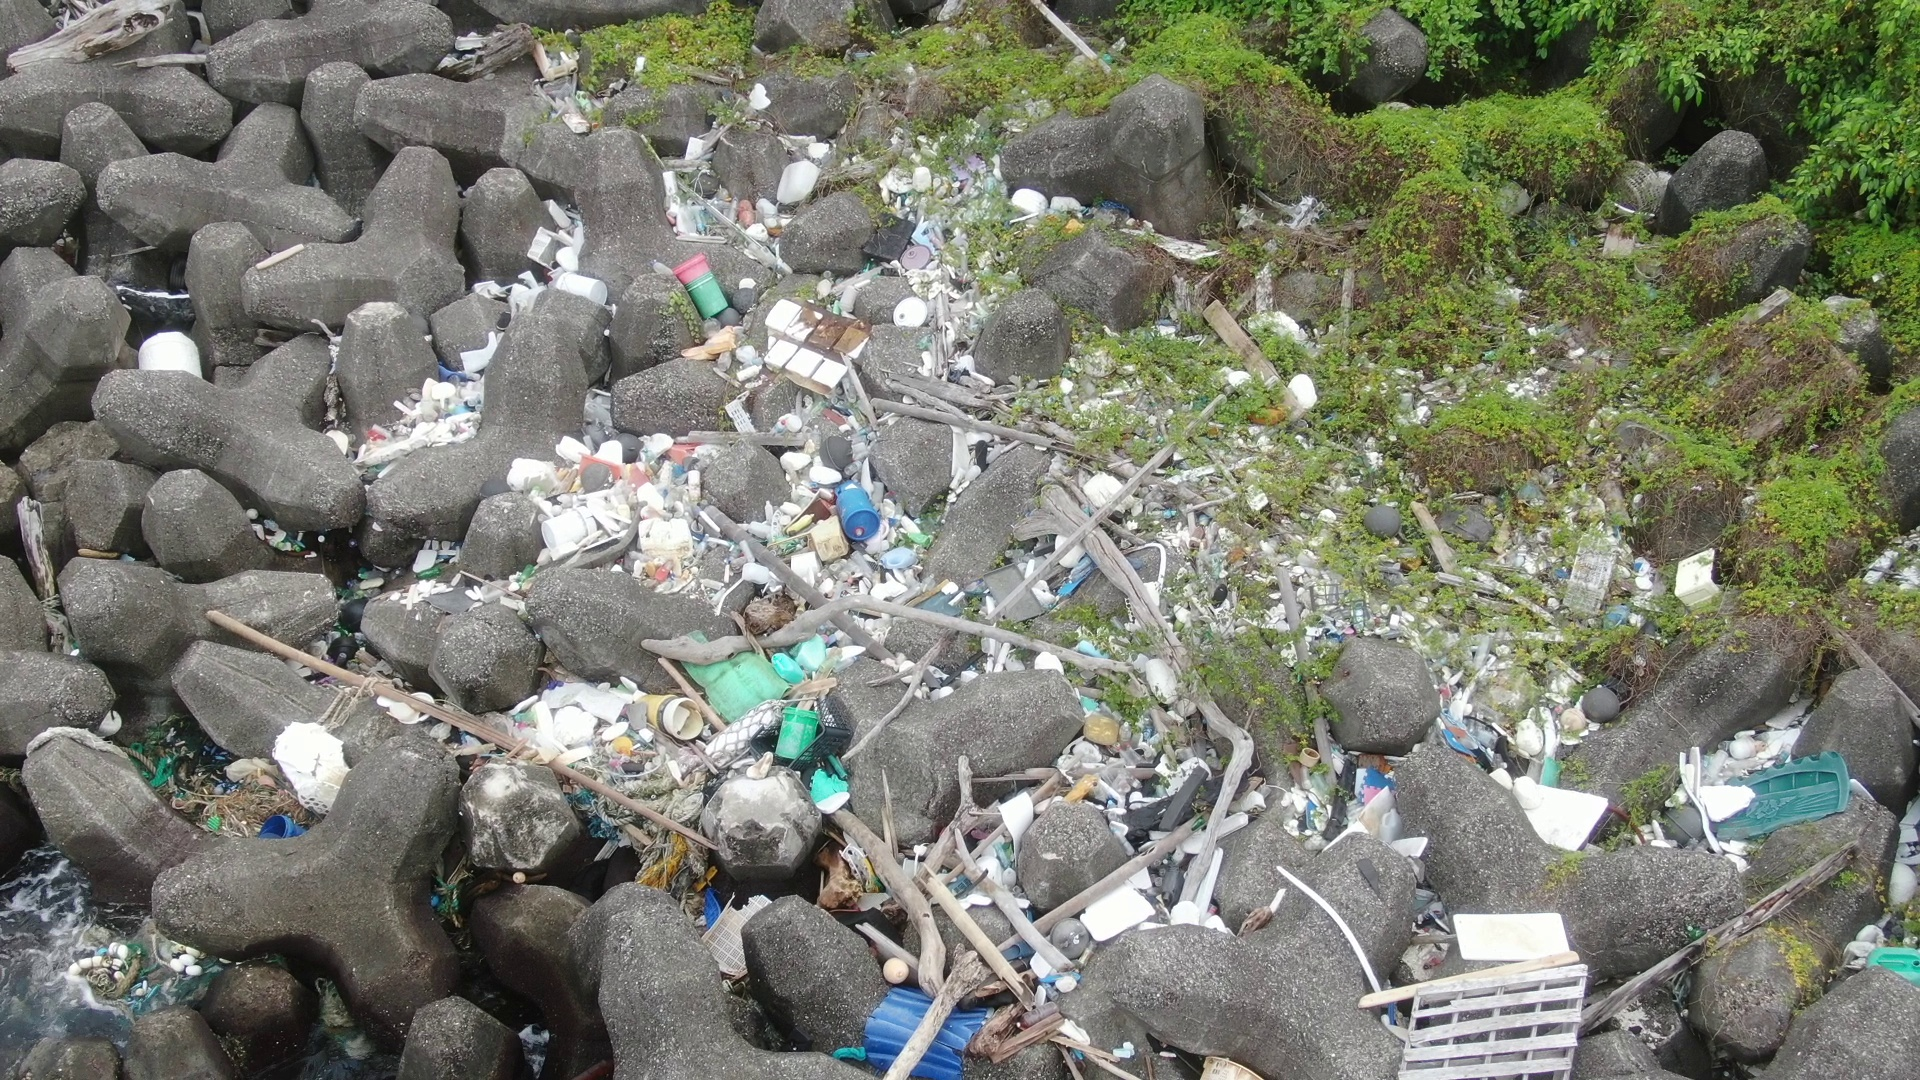garbage: (785, 673, 1320, 1080), (657, 79, 1121, 377), (373, 667, 789, 988), (475, 440, 984, 673), (318, 183, 625, 479), (996, 454, 1257, 663), (1337, 676, 1618, 862), (1362, 891, 1598, 1080), (233, 485, 484, 644), (123, 705, 373, 849), (1652, 727, 1862, 849), (1196, 290, 1332, 448), (61, 902, 229, 1011), (1596, 529, 1727, 626), (520, 13, 595, 145), (1841, 916, 1920, 1004)
